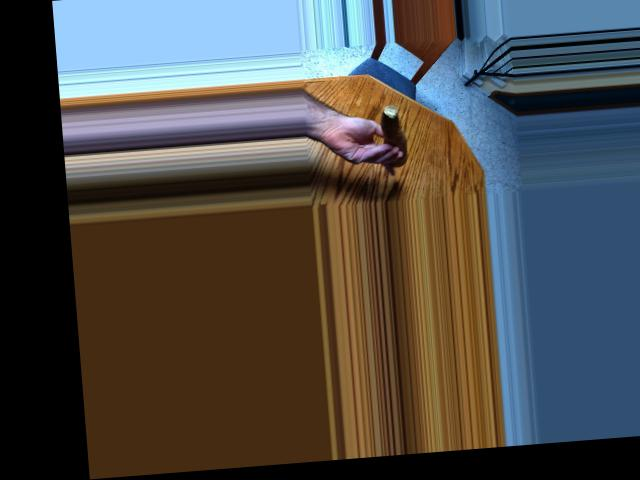sweet_potato: (373, 106, 410, 160)
